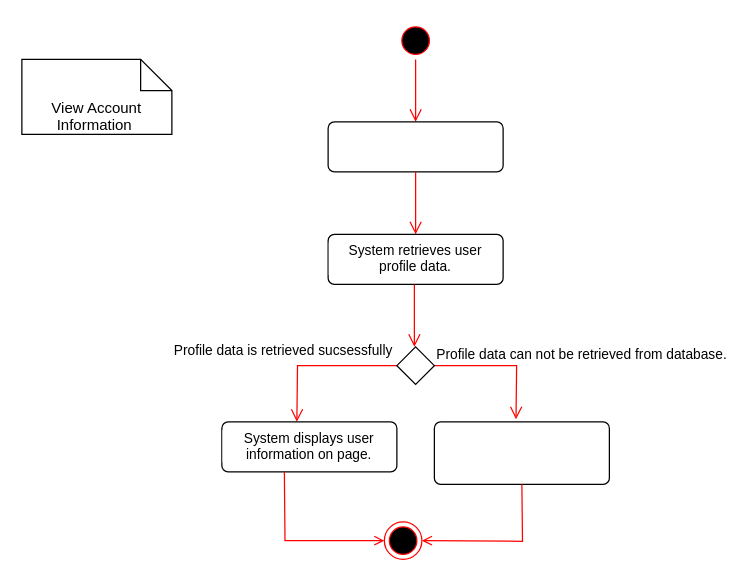
The diagram is 749 pixels wide and 581 high, and some of its shapes have lost their labels. Each missing label, with the box of its shape:
System informs user of error and attempts to reload page again.: (433, 421, 609, 484)
User goes to Account Details page.: (327, 121, 503, 172)
